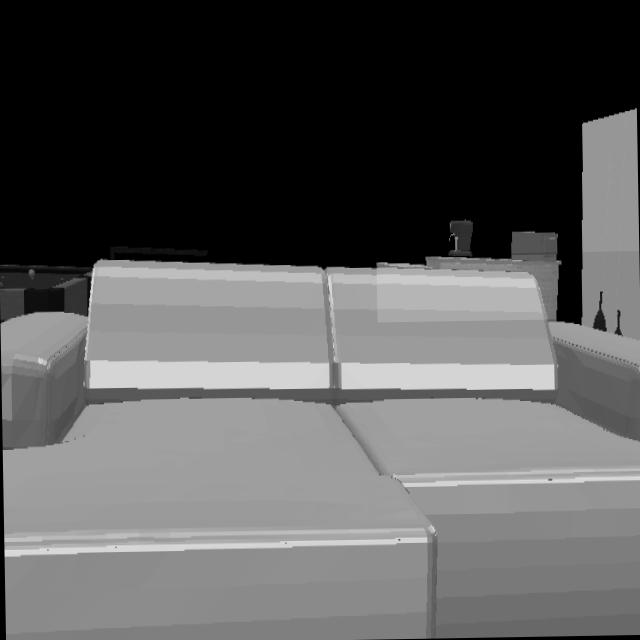sofa: (0, 260, 640, 640)
table: (376, 257, 561, 319)
